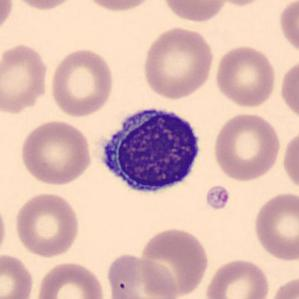Lymphocyte: (94, 100, 207, 200)
Platelets: (204, 184, 231, 211)
RBC: (140, 25, 216, 100), (138, 226, 211, 298), (18, 118, 93, 187), (211, 110, 282, 182), (12, 190, 82, 260), (48, 46, 116, 118), (212, 43, 278, 109), (0, 41, 50, 115), (104, 252, 180, 299), (251, 189, 298, 263), (34, 259, 107, 299), (204, 257, 272, 299), (0, 251, 36, 299), (160, 0, 230, 24), (278, 55, 298, 124), (276, 0, 298, 57), (281, 128, 299, 194), (79, 0, 158, 14), (8, 0, 78, 12), (266, 274, 299, 298), (0, 0, 15, 38), (0, 197, 8, 260), (204, 0, 272, 7)
